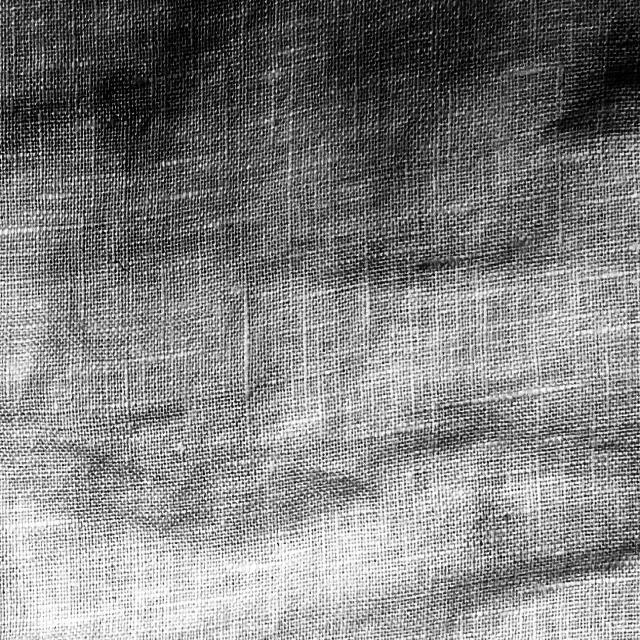Color_defect: (90, 55, 170, 186), (464, 474, 541, 599)
